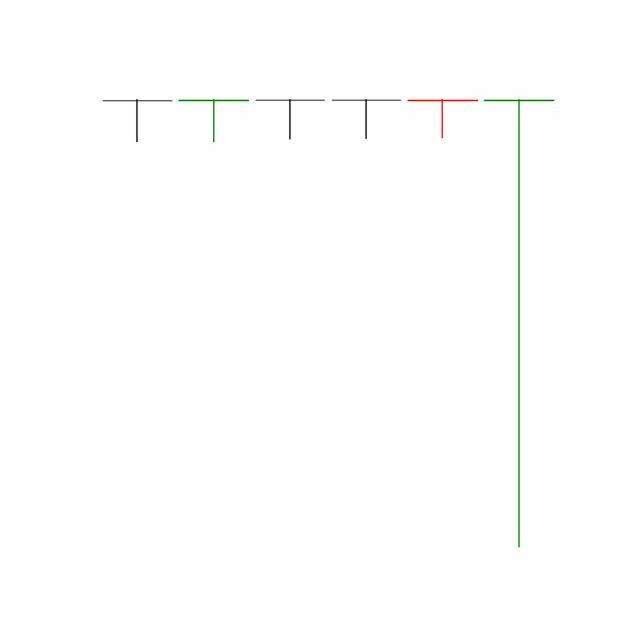Dragonfly Doji: (404, 98, 482, 140)
